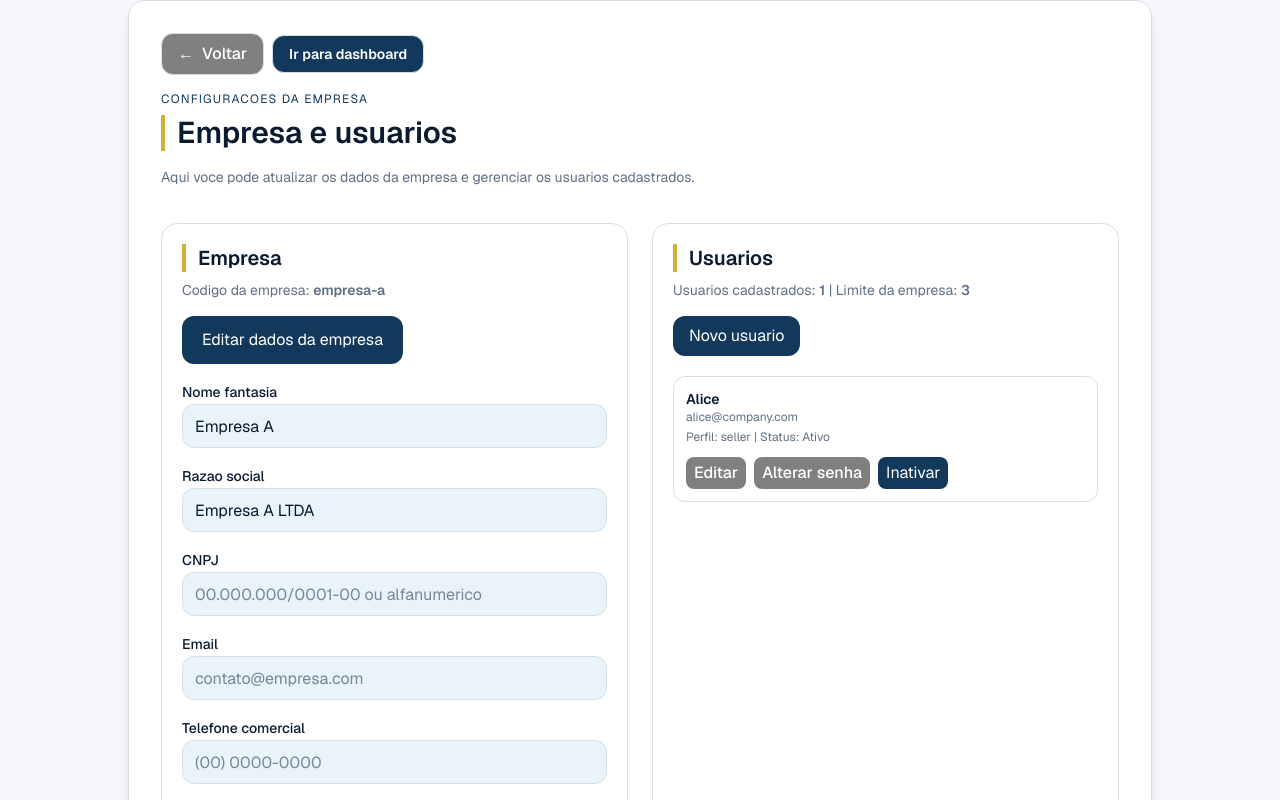
Test: CompanyUsersClient › changes user password using dedicated form
Click the button "Alterar senha" at (812, 473), box [754,457,870,489]
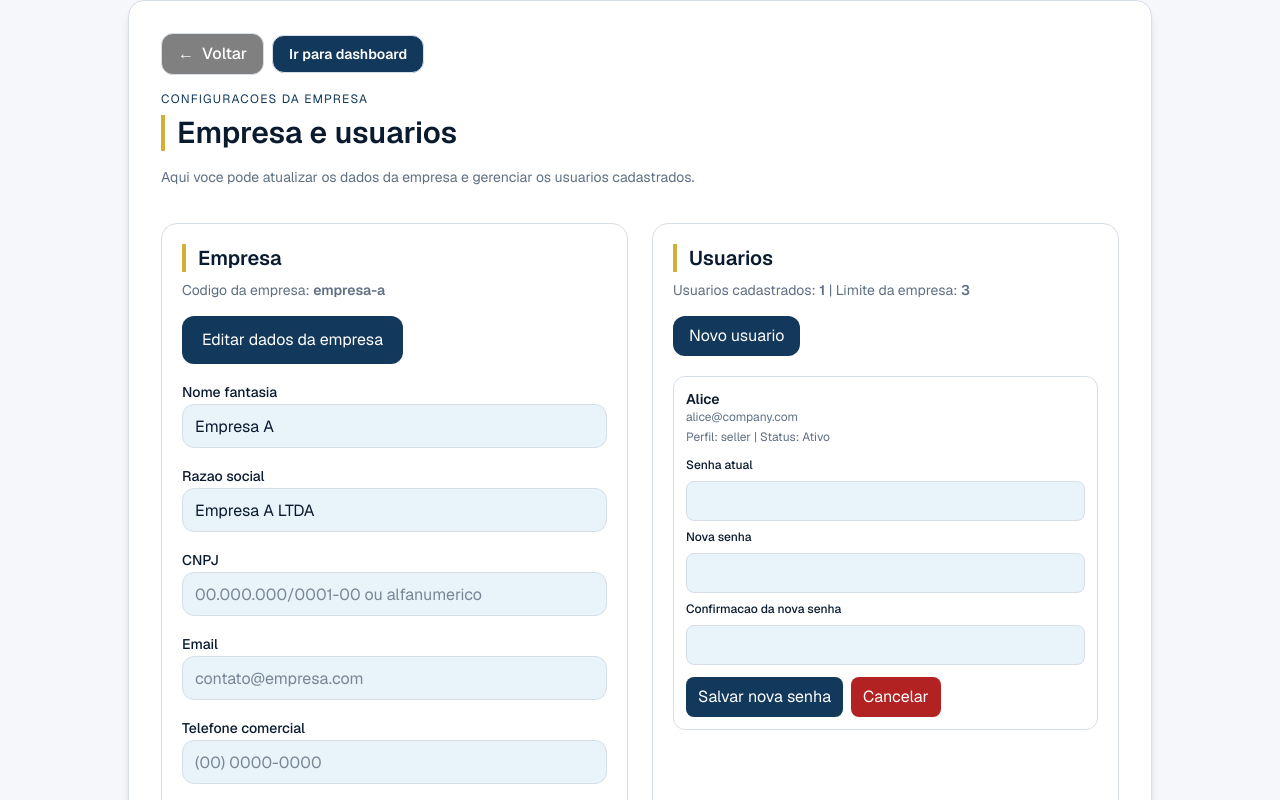
Type "Senha@123" into the password field named "Senha atual" at (886, 501), box [686,481,1085,521]
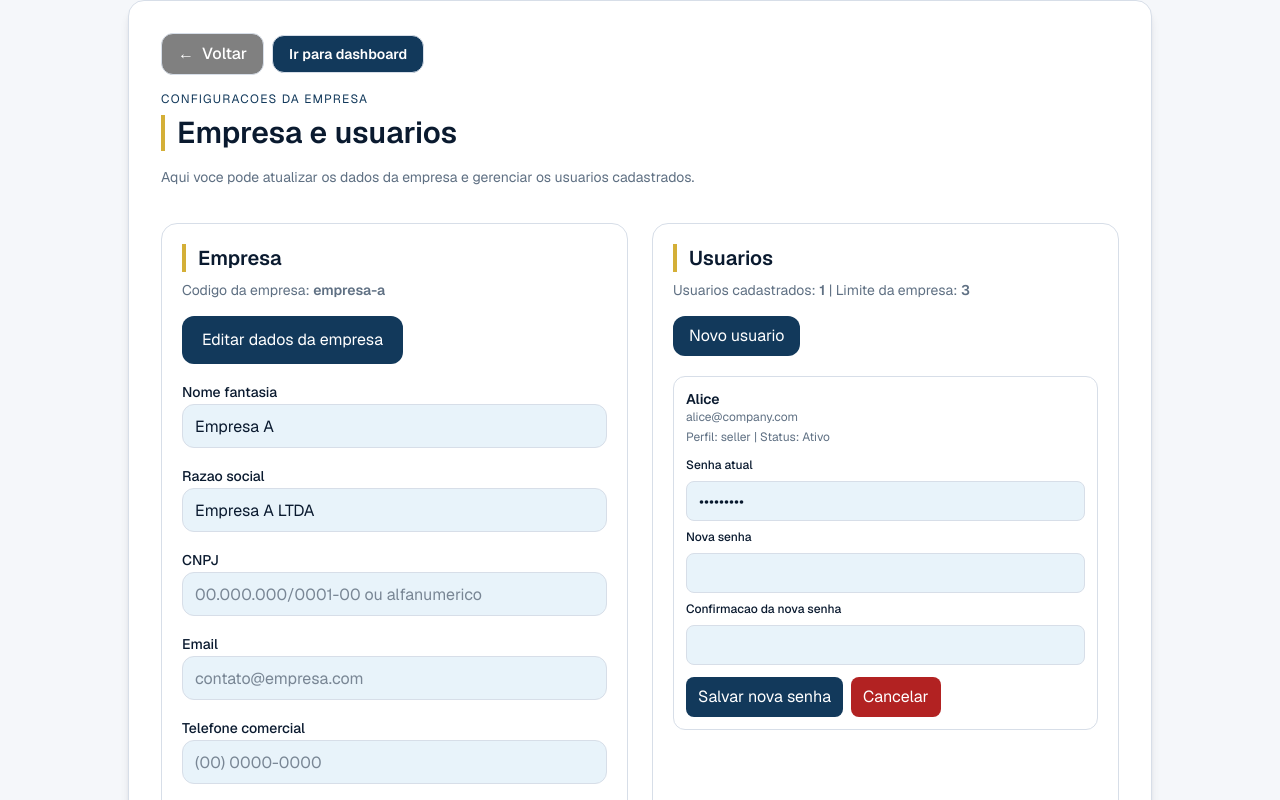
Type "NovaSenha@123" into the password field named "Nova senha" at (886, 573), box [686,553,1085,593]
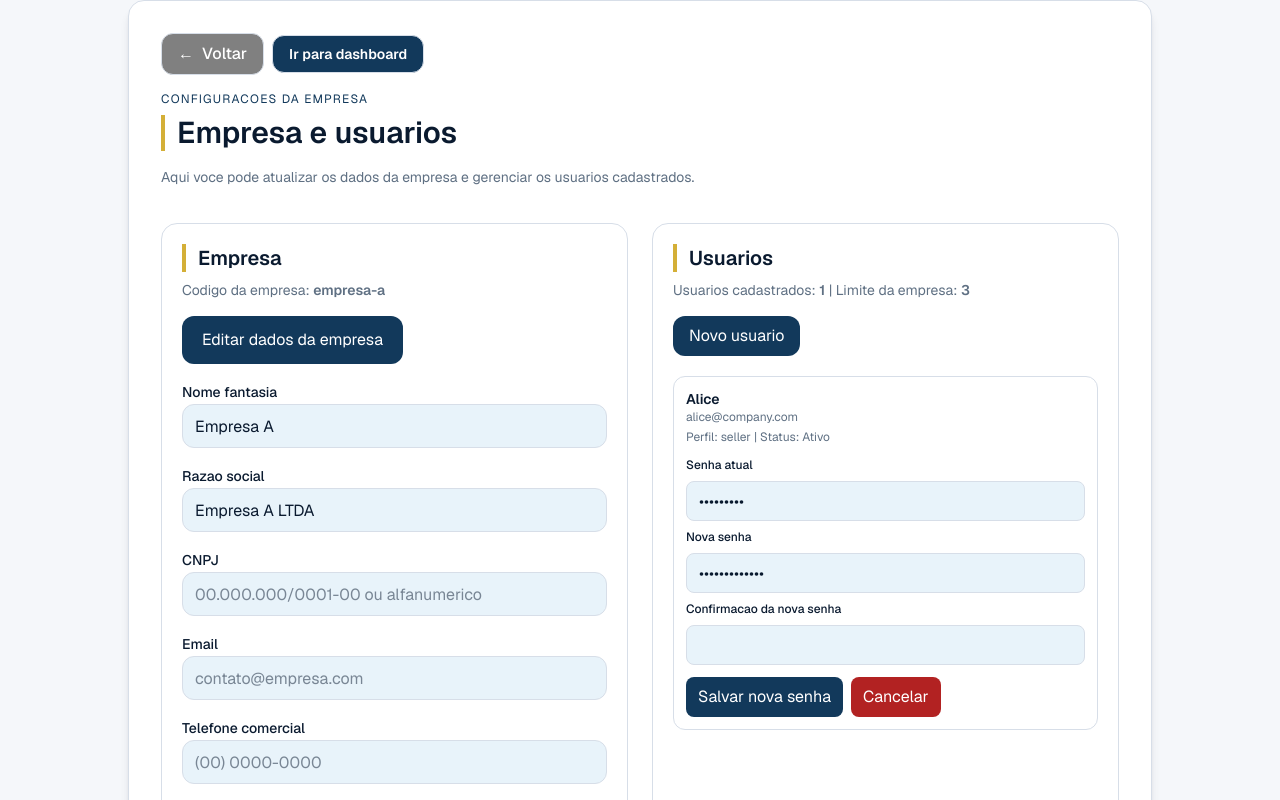
Type "NovaSenha@123" into the password field named "Confirmacao da nova senha" at (886, 645), box [686,625,1085,665]
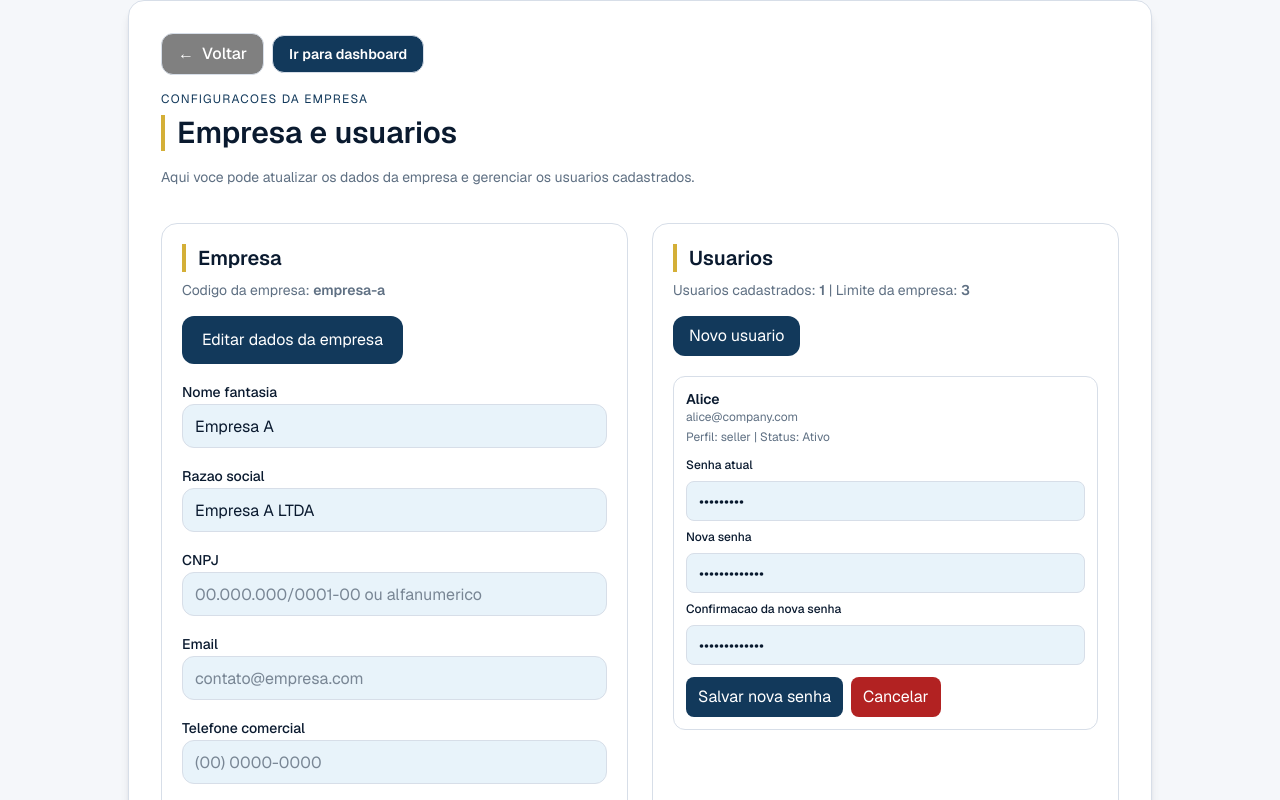
Click the button "Salvar nova senha" at (764, 697), box [686,677,843,717]
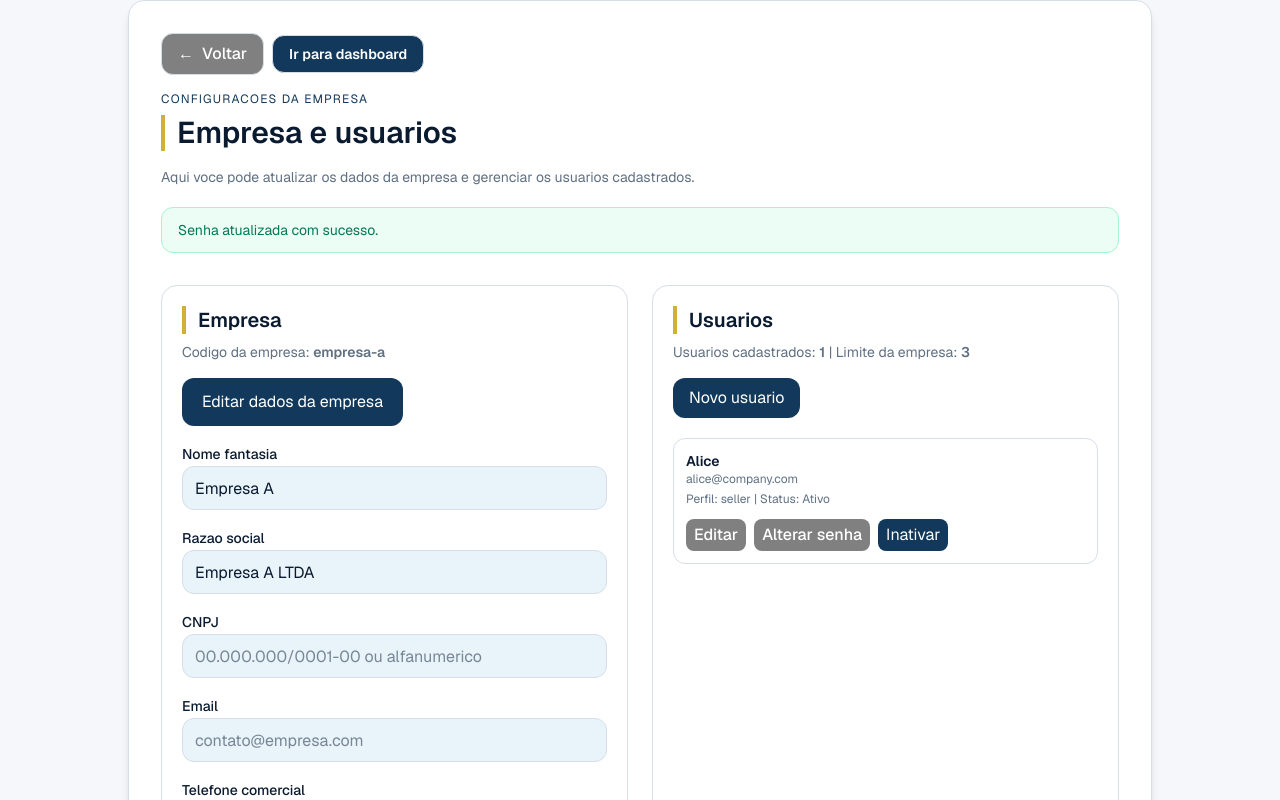
Result: the text "Senha atualizada com sucesso." is shown at [161,207,1119,253]
